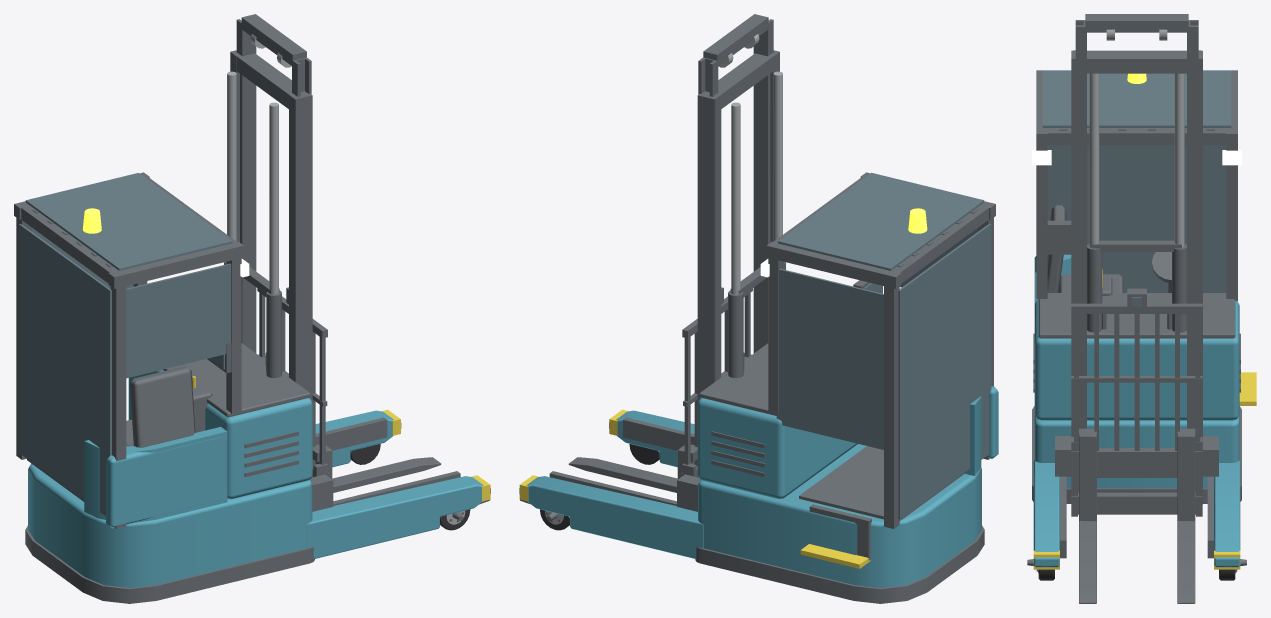
File: reach_truck.glb
The picture shows the model from 3 angles, left to right: view 1: azimuth 30°, elevation 25°; view 2: azimuth 150°, elevation 25°; view 3: azimuth 270°, elevation 25°; orthographic projection.
Visible parts, largest first — view 1: opt_cabin__glass, root__livery, root__graphite, mast_outer__graphite, root__livery.004, root__livery.002, root__livery.001, mast_inner__graphite, root__graphite.002, root__graphite.001, mast_outer__steel, carriage__graphite (+3 smaller); view 2: opt_cabin__glass, root__graphite, root__livery, mast_outer__graphite, root__livery.001, root__livery.004, mast_inner__graphite, mast_outer__steel, carriage__graphite, root__graphite.001, carriage__graphite.001, root__hazard_yellow (+3 smaller); view 3: opt_cabin__glass, root__livery.001, carriage__graphite, root__graphite, mast_inner__graphite, mast_outer__graphite, carriage__graphite.001, root__livery, root__livery.004, root__graphite.001, mast_outer__steel, reach__graphite (+4 smaller).
Boxes of the visible parts, box(x1,y1,x2,y2) form: opt_cabin__glass: box(19, 173, 232, 516); root__livery: box(28, 463, 312, 587); root__graphite: box(14, 172, 460, 603); mast_outer__graphite: box(224, 50, 312, 477); root__livery.004: box(306, 410, 490, 558); root__livery.002: box(106, 430, 223, 528); root__livery.001: box(128, 370, 312, 498); mast_inner__graphite: box(236, 14, 311, 352); root__graphite.002: box(126, 366, 195, 447); root__graphite.001: box(162, 343, 310, 417); mast_outer__steel: box(227, 71, 278, 294); carriage__graphite: box(257, 288, 329, 477); opt_cabin__glass: box(776, 172, 991, 519); root__graphite: box(549, 172, 995, 603); root__livery: box(698, 444, 981, 587); mast_outer__graphite: box(697, 50, 785, 477); root__livery.001: box(697, 398, 857, 498); root__livery.004: box(519, 410, 703, 558); mast_inner__graphite: box(698, 14, 773, 353); mast_outer__steel: box(731, 71, 782, 294); carriage__graphite: box(681, 288, 752, 477); root__graphite.001: box(699, 343, 776, 415); carriage__graphite.001: box(520, 444, 694, 504); root__hazard_yellow: box(519, 409, 870, 568); opt_cabin__glass: box(1042, 70, 1236, 301); root__livery.001: box(1034, 300, 1239, 420); carriage__graphite: box(1071, 303, 1202, 516); root__graphite: box(1032, 70, 1241, 558); mast_inner__graphite: box(1075, 14, 1198, 492); mast_outer__graphite: box(1071, 50, 1202, 504); carriage__graphite.001: box(1079, 432, 1195, 603); root__livery: box(1034, 414, 1239, 488); root__livery.004: box(1033, 460, 1240, 567); root__graphite.001: box(1038, 293, 1235, 338); mast_outer__steel: box(1089, 73, 1184, 247); reach__graphite: box(1055, 314, 1218, 476).
Bounding box in the file's own units: 2.87 × 3.34 × 1.4.
